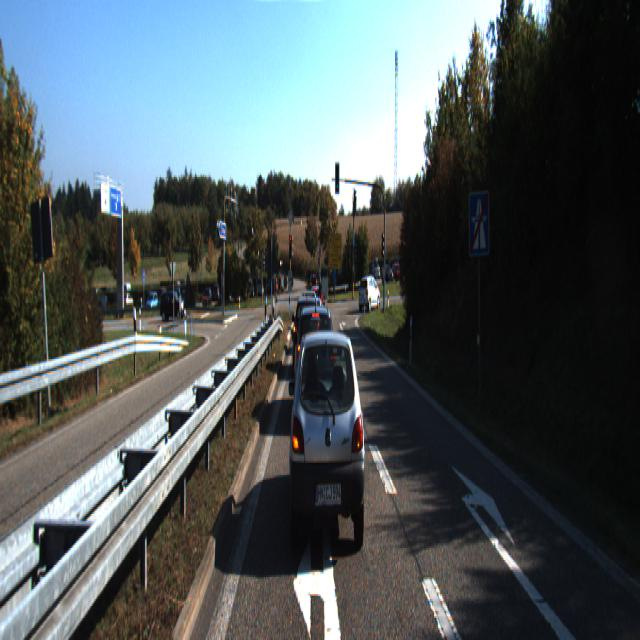Car: (288, 320, 369, 563), (294, 302, 338, 427), (359, 273, 380, 309)
